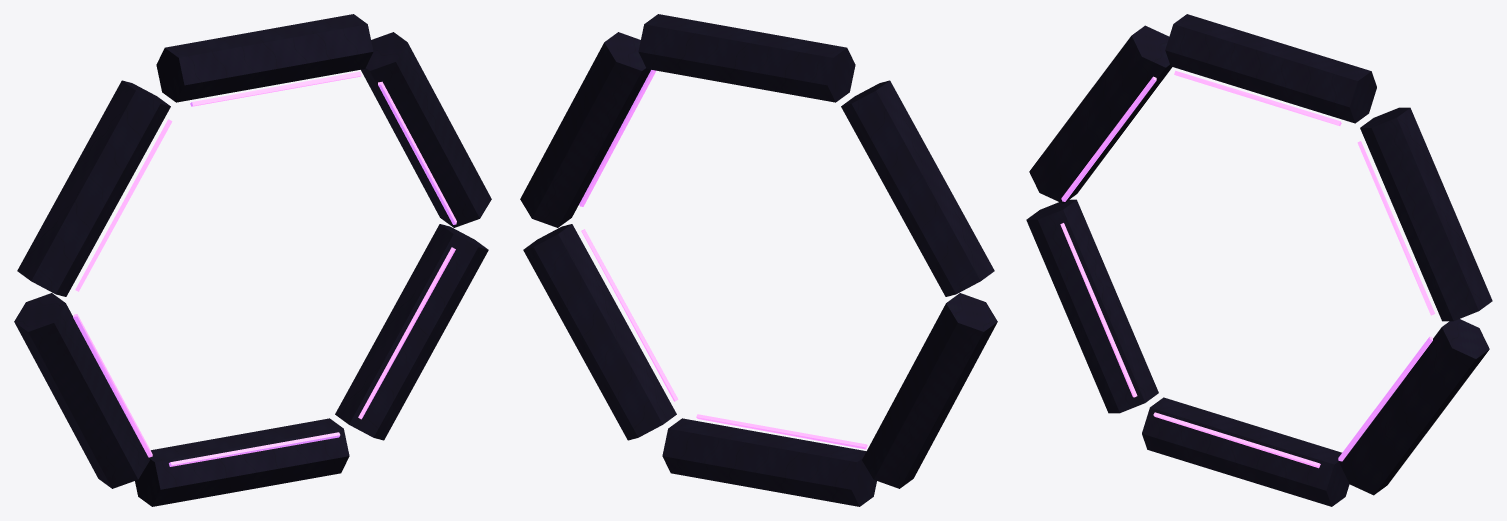
Rendered from Ruin_Gate_Segment_Ring.glb.
The picture shows the model from 3 angles, left to right: view 1: azimuth 30°, elevation 25°; view 2: azimuth 150°, elevation 25°; view 3: azimuth 330°, elevation 25°; orthographic projection. The views are drawn at different scales.
Parts seen in each view (by area): view 1: Ruin_Gate_Segment_Ring; view 2: Ruin_Gate_Segment_Ring; view 3: Ruin_Gate_Segment_Ring.
Boxes of the visible parts, x1,y1,x2,y2 form: Ruin_Gate_Segment_Ring: (14, 14, 491, 506); Ruin_Gate_Segment_Ring: (520, 14, 997, 506); Ruin_Gate_Segment_Ring: (1026, 14, 1492, 506).
Size of the model in its own units: 6.1 by 5.72 by 0.64.
2 materials, 1 textured.
